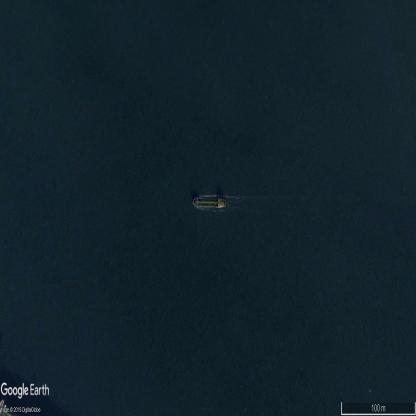ship: (191, 190, 226, 212)
